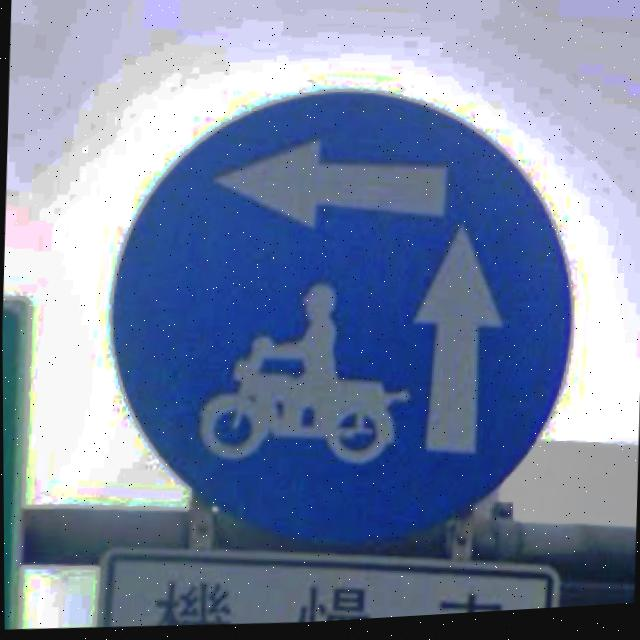twostageturn: (114, 96, 570, 544)
